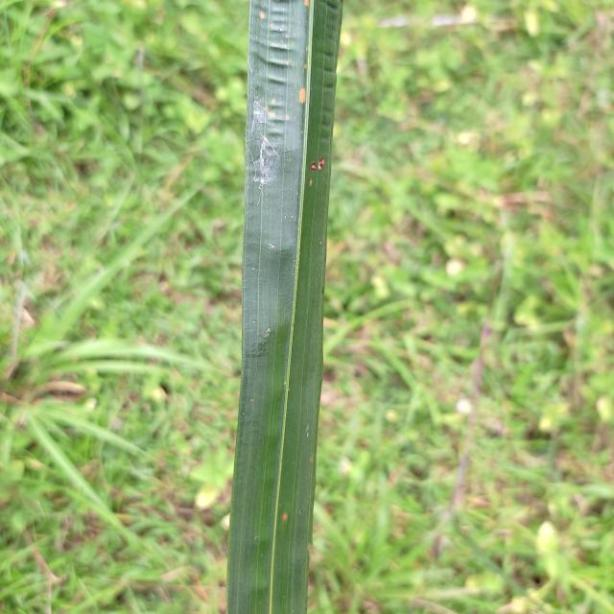Boron: (238, 0, 349, 614)
